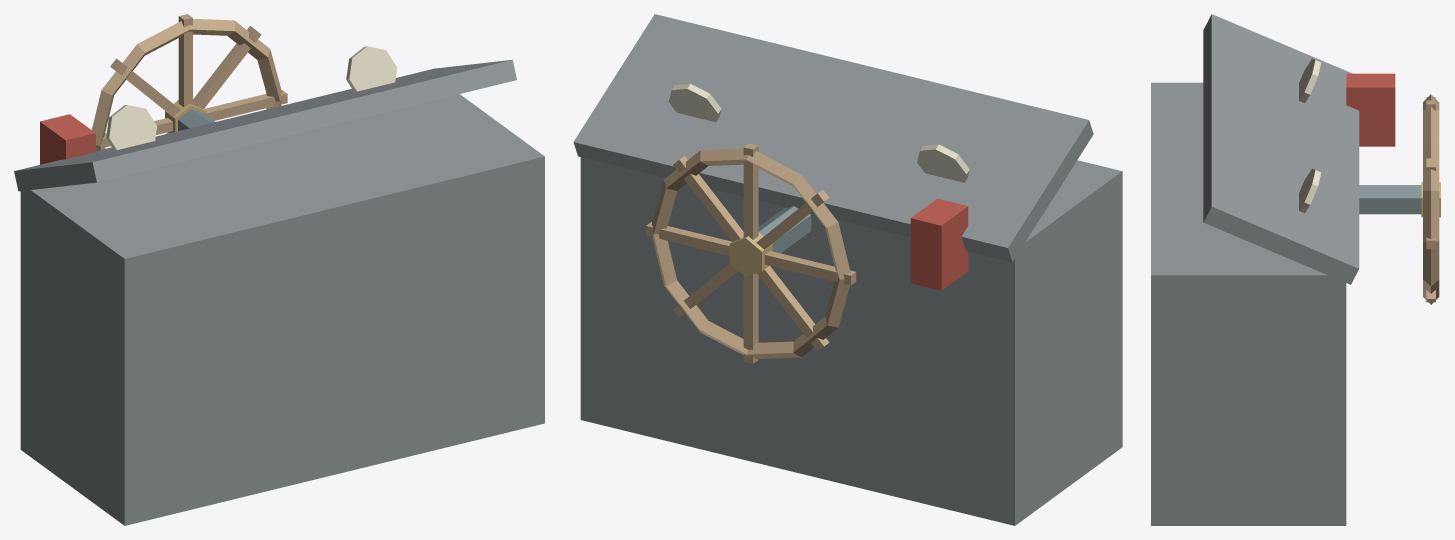
File: boat_helm.fbx
The picture shows the model from 3 angles, left to right: view 1: azimuth 30°, elevation 25°; view 2: azimuth 150°, elevation 25°; view 3: azimuth 270°, elevation 25°; orthographic projection. The views are drawn at different scales.
Visible parts, largest first — view 1: boat_helm; view 2: boat_helm; view 3: boat_helm.
Part boxes in pixels (x1,y1,x2,y2): boat_helm: (14, 14, 544, 525); boat_helm: (573, 14, 1122, 525); boat_helm: (1151, 14, 1440, 525).
Size of the model in its own units: 1.4 by 1.11 by 0.89.
